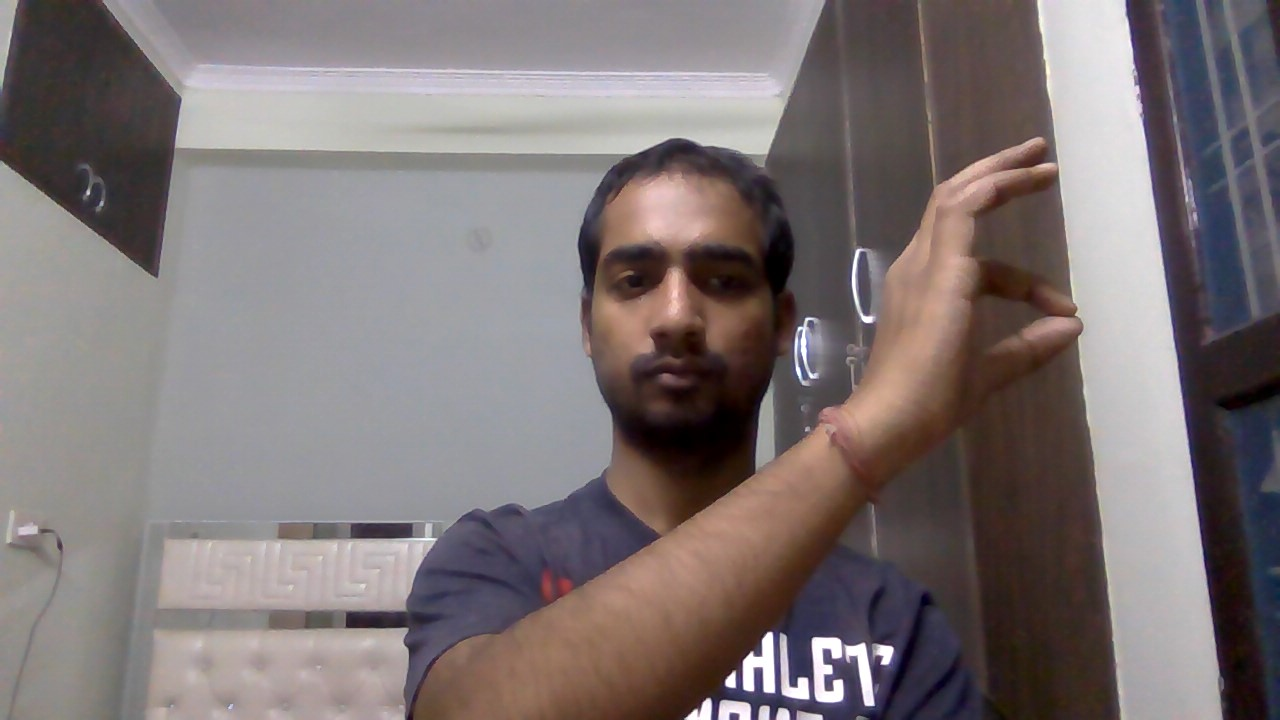Copy: (847, 127, 1095, 470)
